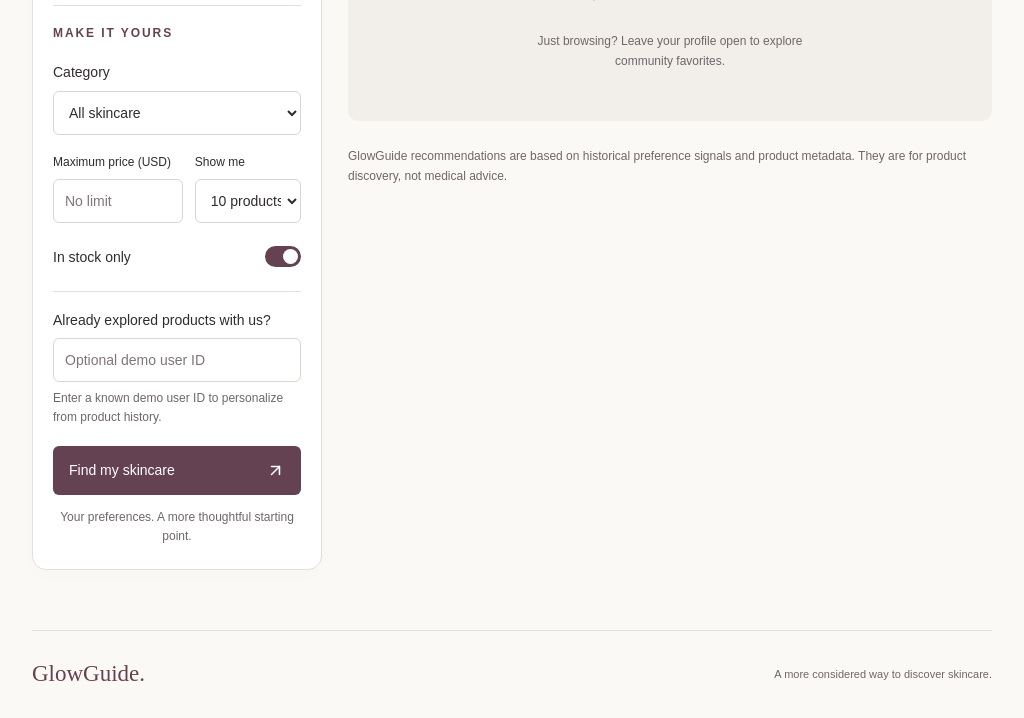
recommendation experience › shows actual content_fallback explanation without fetching and preserves results
(page scrolled)
Click the button "Find my skincare": (177, 470) x1=53 y1=446 x2=301 y2=495
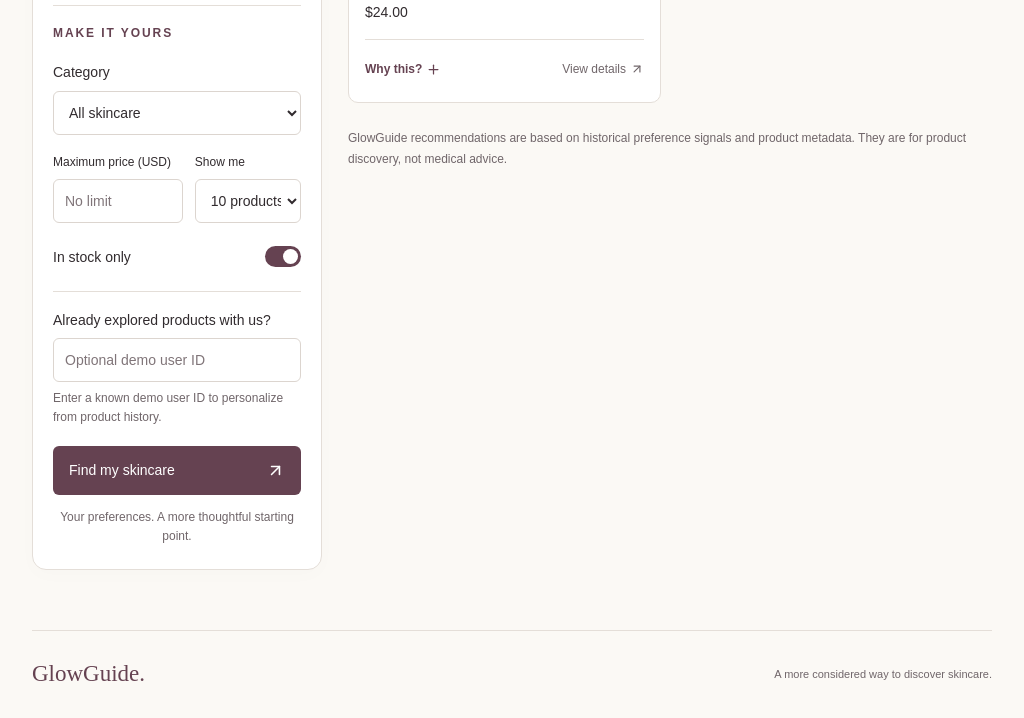
Click the button "Why this?": (403, 69) x1=365 y1=49 x2=441 y2=89
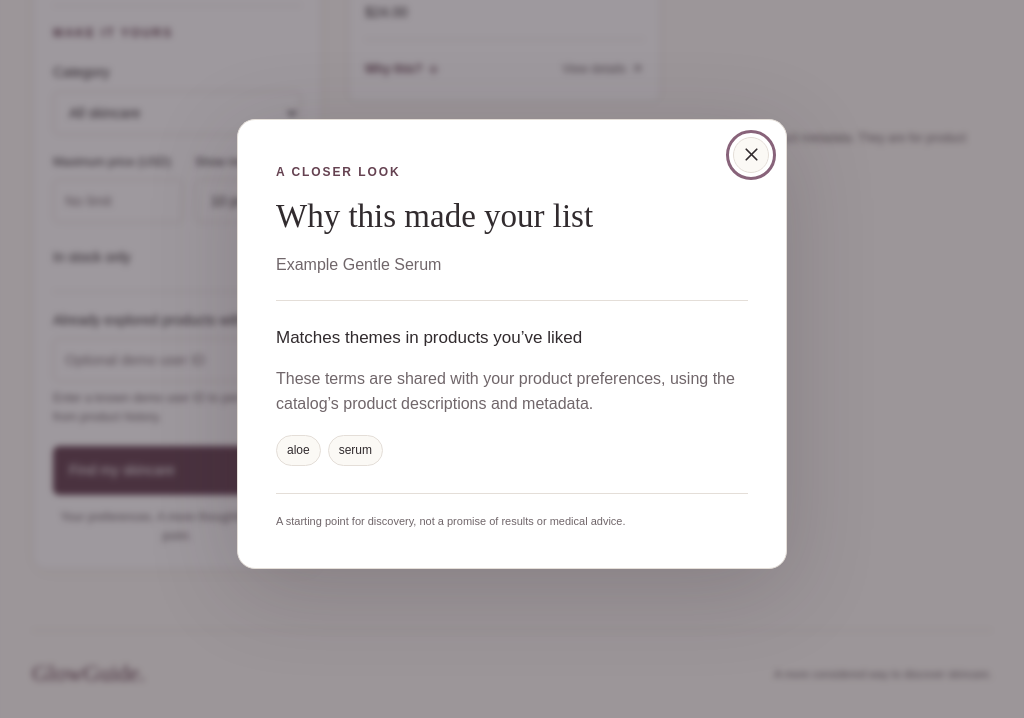
Result: the text "aloe" is shown at x1=276 y1=435 x2=321 y2=466
Press Escape
(page scrolled)
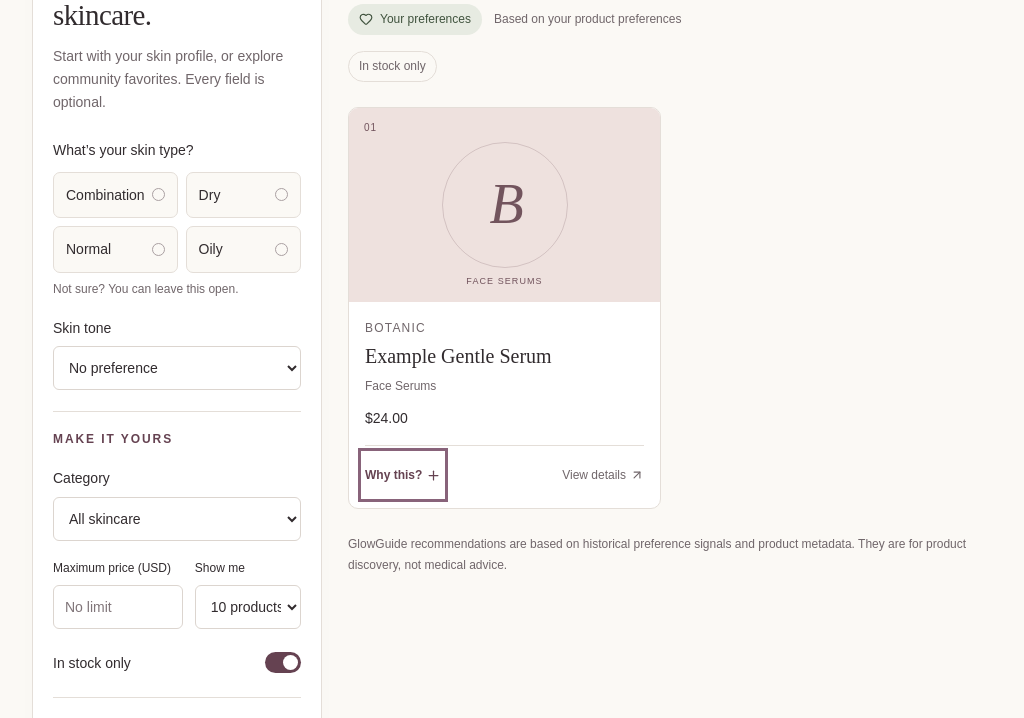
Result: the heading "Example Gentle Serum" is shown at x1=365 y1=345 x2=552 y2=367
Result: the dialog is gone
